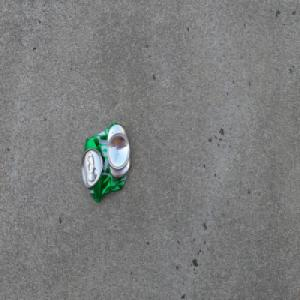SodaCan: (80, 121, 130, 203)
